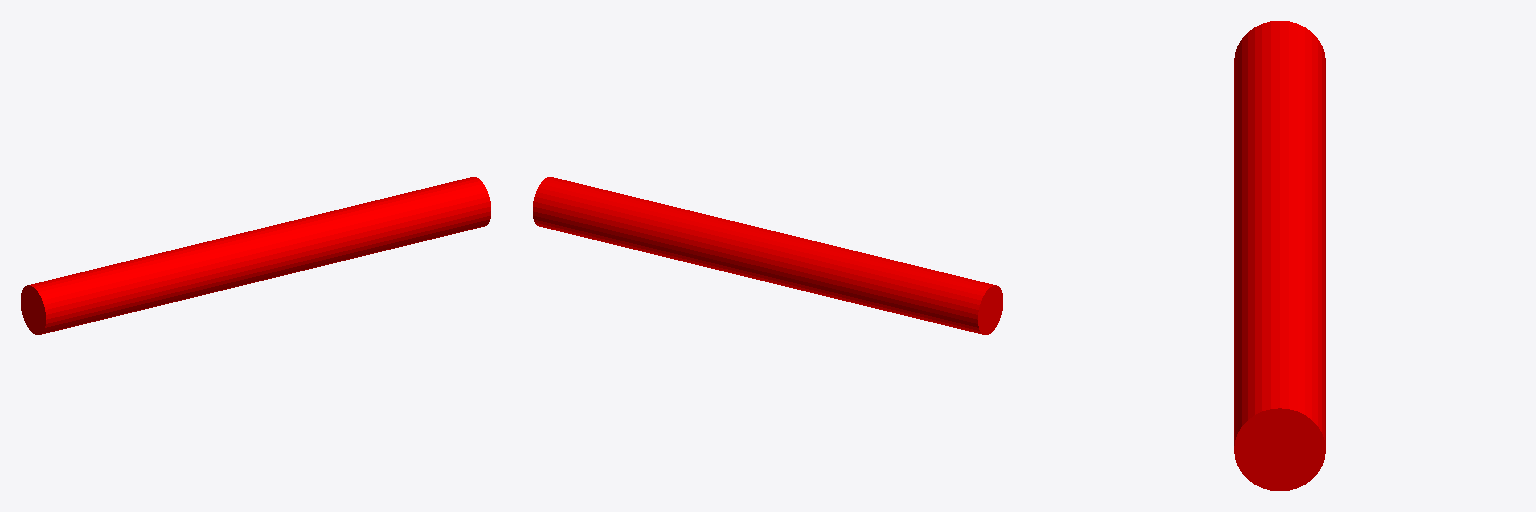
The robot description file, URDF, robot "physics":
<?xml version="1.0"?>
<robot name="physics">
  <link name="gripper_pole">
    <visual>
      <geometry>
        <cylinder length="0.2" radius=".01"/>
      </geometry>
      <origin rpy="0 1.57075 0 " xyz="0.1 0 0"/>
      <material name="Red">
        <color rgba="1 0 0 1"/>
      </material>
    </visual>
    <collision>
      <geometry>
        <cylinder length="0.2" radius=".01"/>
      </geometry>
      <origin rpy="0 1.57075 0" xyz="0.1 0 0"/>
    </collision>
    <inertial>
      <mass value="0.5"/>
      <inertia ixx="1.0" ixy="0.0" ixz="0.0" iyy="1.0" iyz="0.0" izz="1.0"/>
    </inertial>
  </link>
</robot>

--- Facts derived from the render (not from the file) ---
Views: 3 orthographic renders of the robot side by side, from view 1: azimuth 30°, elevation 25°; view 2: azimuth 150°, elevation 25°; view 3: azimuth 270°, elevation 25°.
Model physics with 1 links and 0 joints (none), rooted at gripper_pole, posed all joints at 0.
Links seen in each view (by area): view 1: gripper_pole; view 2: gripper_pole; view 3: gripper_pole.
Link boxes in pixels (x1,y1,x2,y2): gripper_pole: (21, 177, 490, 334); gripper_pole: (533, 177, 1002, 334); gripper_pole: (1234, 21, 1325, 490).
Bounding box of the posed robot: 0.2 × 0.02 × 0.02 m (x, y, z).
Geometry: primitives only (box / cylinder / sphere), no mesh files.